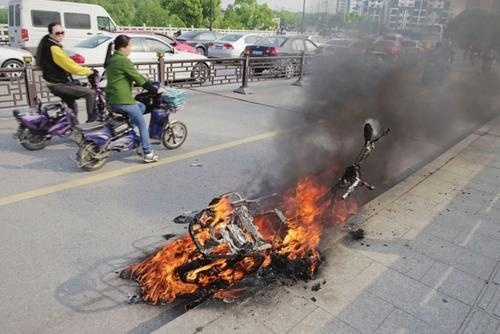fire: (131, 167, 350, 308)
